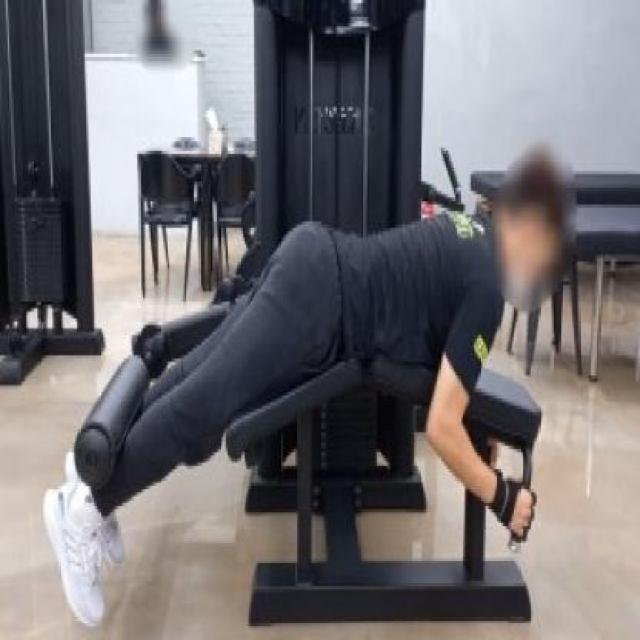reg curl machine: (42, 0, 576, 640)
